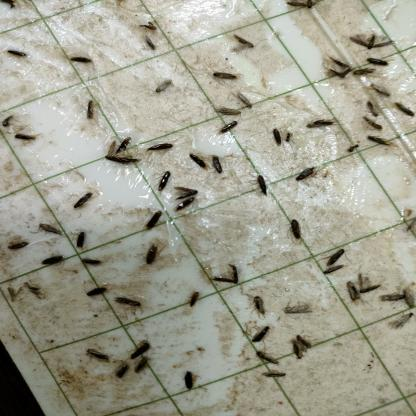prays_oleae: (110, 285, 146, 322), (352, 22, 396, 52), (362, 126, 398, 158), (80, 342, 112, 376), (280, 216, 311, 248), (226, 25, 257, 56), (142, 201, 166, 239), (38, 245, 66, 276), (249, 282, 268, 326), (256, 164, 273, 210), (304, 107, 334, 132), (3, 230, 28, 260), (209, 264, 243, 286), (317, 259, 348, 283), (214, 96, 243, 121), (282, 299, 314, 321), (64, 51, 101, 70), (391, 94, 416, 122), (141, 242, 165, 271), (86, 276, 107, 309), (258, 344, 284, 370), (130, 332, 151, 364), (352, 58, 378, 83), (380, 285, 404, 312), (340, 275, 362, 304), (390, 310, 414, 336), (76, 252, 104, 274), (187, 148, 208, 177), (250, 320, 273, 346), (360, 273, 380, 302), (209, 152, 228, 182), (184, 287, 202, 318), (324, 239, 348, 262), (294, 164, 317, 188), (110, 361, 131, 387), (260, 366, 290, 384), (218, 118, 242, 139), (70, 190, 98, 208), (401, 279, 416, 312), (178, 373, 200, 395), (211, 68, 240, 84), (151, 78, 174, 98), (366, 52, 389, 72), (369, 78, 392, 98), (129, 362, 152, 382), (38, 223, 65, 240), (268, 122, 283, 152), (12, 130, 38, 147), (74, 220, 87, 254), (174, 194, 196, 214), (362, 94, 380, 118), (361, 114, 385, 132), (6, 48, 34, 63), (143, 33, 159, 59), (154, 168, 172, 191), (82, 98, 98, 122), (112, 135, 133, 153), (140, 19, 162, 36), (237, 90, 255, 110), (148, 142, 174, 154), (174, 186, 198, 198), (288, 336, 300, 360), (284, 127, 291, 151)
